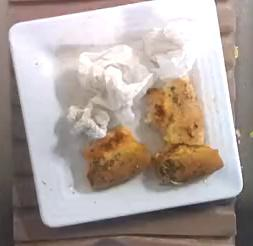pizza_crust: (84, 78, 222, 190)
